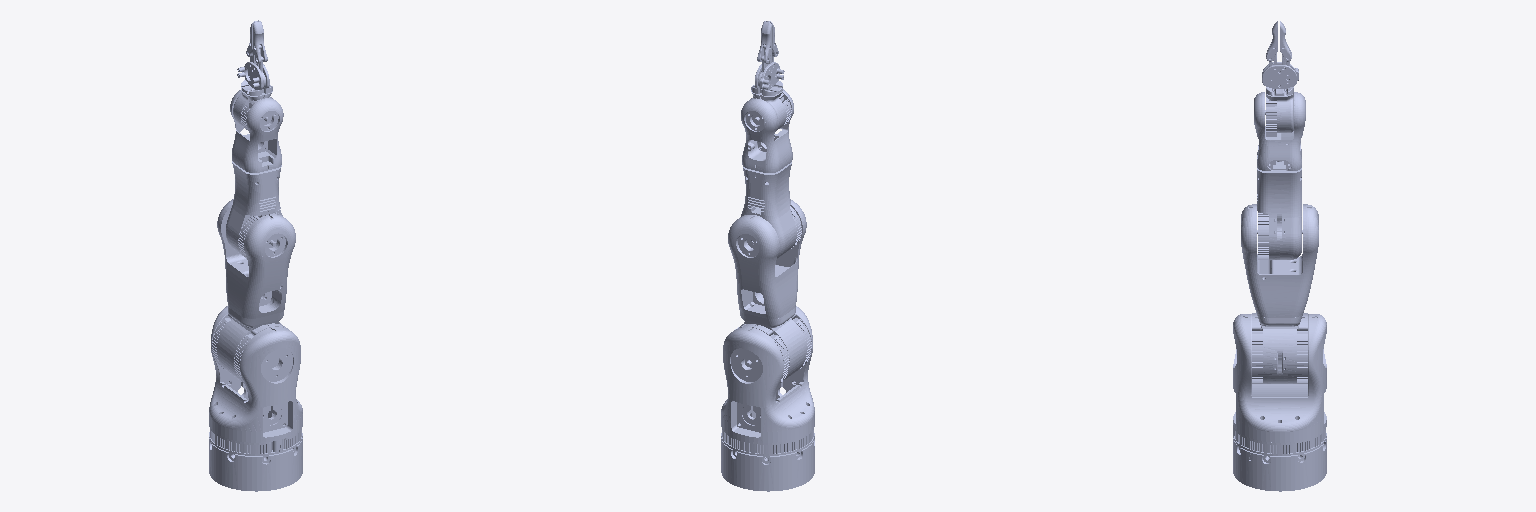
--- Facts derived from the render (not from the file) ---
The picture shows the robot from 3 angles, left to right: view 1: azimuth 30°, elevation 25°; view 2: azimuth 150°, elevation 25°; view 3: azimuth 270°, elevation 25°; orthographic projection.
Model rbx1_urdf with 15 links and 14 joints (8 revolute, 4 continuous, 2 fixed), rooted at world, posed all joints at 0.
Visible links, largest first — view 1: Link_1, Link_2, base_link, Link_4, Link_3, Link_Gripper, Link_5; view 2: Link_1, Link_2, base_link, Link_3, Link_4, Link_Gripper, Link_5; view 3: Link_2, Link_1, Link_3, base_link, Link_4, Link_5, Link_Gripper.
Link boxes in pixels (left/top/right/bottom): Link_1: left=209, top=306, right=302, bottom=455; Link_2: left=212, top=199, right=295, bottom=382; base_link: left=209, top=438, right=302, bottom=491; Link_4: left=230, top=90, right=283, bottom=172; Link_3: left=226, top=161, right=282, bottom=258; Link_Gripper: left=237, top=62, right=272, bottom=95; Link_5: left=233, top=90, right=272, bottom=130; Link_1: left=721, top=306, right=814, bottom=455; Link_2: left=728, top=200, right=811, bottom=382; base_link: left=721, top=438, right=814, bottom=491; Link_3: left=741, top=162, right=801, bottom=258; Link_4: left=741, top=90, right=793, bottom=172; Link_Gripper: left=751, top=62, right=784, bottom=95; Link_5: left=750, top=89, right=791, bottom=131; Link_2: left=1241, top=204, right=1318, bottom=383; Link_1: left=1233, top=314, right=1326, bottom=455; Link_3: left=1257, top=168, right=1302, bottom=259; base_link: left=1233, top=438, right=1326, bottom=491; Link_4: left=1254, top=92, right=1305, bottom=170; Link_5: left=1265, top=93, right=1293, bottom=132; Link_Gripper: left=1262, top=62, right=1298, bottom=95.
Size in the robot's own frame: 0.16 by 0.16 by 0.8502 metres.
Meshes: 14 distinct files referenced, 14 mesh visuals loaded (14 binary STL).

The robot description file, URDF, robot "rbx1_urdf":
<robot name="rbx1_urdf">

    <link name="world"/>
    <joint name="fixed" type="fixed">
        <parent link="world"/>
        <child link="base_link"/>
    </joint>

    <link name="base_link">
        <visual>
            <origin xyz="0 0 0" rpy="0 0 0" />
            <geometry>
                <mesh filename="package://rbx1_urdf/meshes/base_link.STL" />
            </geometry>
            <material name="">
                <color rgba="0.792156862745098 0.819607843137255 0.933333333333333 1" />
            </material>
        </visual>
        <collision>
            <origin xyz="0 0 0" rpy="0 0 0" />
            <geometry>
                <mesh filename="package://rbx1_urdf/meshes/base_link.STL" />
            </geometry>
        </collision>
        
<inertial>
            <mass value="0.1" />
            <inertia ixx="0.03" iyy="0.03" izz="0.03" ixy="0.0" ixz="0.0" iyz="0.0" />
        </inertial>

    </link>
    <link name="Link_1">
        
<inertial>
            <origin xyz="9.04997110390271E-05 -0.11835886489477 -1.03110880117219E-05" rpy="0 0 0" />
            <mass value="1.59870477698065" />
            <inertia ixx="0.00889558917774968" ixy="-9.83059909185543E-06" ixz="-1.11290572659371E-07" iyy="0.00628978480890219" iyz="2.53377512999986E-10" izz="0.0104429435232975" />
        </inertial>

        <visual>
            <origin xyz="0 0 0" rpy="0 0 0" />
            <geometry>
                <mesh filename="package://rbx1_urdf/meshes/Link_1.STL" />
            </geometry>
            <material name="">
                <color rgba="0.792156862745098 0.819607843137255 0.933333333333333 1" />
            </material>
        </visual>
        <collision>
            <origin xyz="0 0 0" rpy="0 0 0" />
            <geometry>
                <mesh filename="package://rbx1_urdf/meshes/Link_1.STL" />
            </geometry>
        </collision>
    </link>
    <joint name="Joint_1" type="revolute">
        <origin xyz="0 0 0.0309" rpy="-1.5708 -3.8551E-17 1.5708" />
        <parent link="base_link" />
        <child link="Link_1" />
        <axis xyz="0 -1 0" />
        <limit lower="-2.0944" upper="2.0944" effort="0" velocity="0.2" />
    </joint>
    <link name="Link_2">
        
<inertial>
            <origin xyz="-0.0752469214973449 -0.000500019087013304 0.00801565213983907" rpy="0 0 0" />
            <mass value="1.79157969898053" />
            <inertia ixx="0.00352142476542667" ixy="-6.44382134269422E-05" ixz="0.00133900684156435" iyy="0.015584705901927" iyz="6.30277961531298E-06" izz="0.0160835270899943" />
        </inertial>

        <visual>
            <origin xyz="0 0 0" rpy="0 0 0" />
            <geometry>
                <mesh filename="package://rbx1_urdf/meshes/Link_2.STL" />
            </geometry>
            <material name="">
                <color rgba="0.792156862745098 0.819607843137255 0.933333333333333 1" />
            </material>
        </visual>
        <collision>
            <origin xyz="0 0 0" rpy="0 0 0" />
            <geometry>
                <mesh filename="package://rbx1_urdf/meshes/Link_2.STL" />
            </geometry>
        </collision>
    </link>
    <joint name="Joint_2" type="revolute">
        <origin xyz="0 -0.20101 0" rpy="-3.7985E-15 -0.11192 1.5708" />
        <parent link="Link_1" />
        <child link="Link_2" />
        <axis xyz="0 -1 0" />
        <limit lower="-2.2" upper="2.2" effort="0" velocity="0.2" />
    </joint>
    <link name="Link_3">
        
<inertial>
            <origin xyz="-0.023523909117978 -0.000262425638498542 0.0293343651247101" rpy="0 0 0" />
            <mass value="0.657902225276796" />
            <inertia ixx="0.00143523552046151" ixy="5.67208849821963E-06" ixz="0.000616952504524279" iyy="0.00196412953468847" iyz="-7.12192573745459E-06" izz="0.00115362138792626" />
        </inertial>

        <visual>
            <origin xyz="0 0 0" rpy="0 0 0" />
            <geometry>
                <mesh filename="package://rbx1_urdf/meshes/Link_3.STL" />
            </geometry>
            <material name="">
                <color rgba="0.792156862745098 0.819607843137255 0.933333333333333 1" />
            </material>
        </visual>
        <collision>
            <origin xyz="0 0 0" rpy="0 0 0" />
            <geometry>
                <mesh filename="package://rbx1_urdf/meshes/Link_3.STL" />
            </geometry>
        </collision>
    </link>
    <joint name="Joint_3" type="revolute">
        <origin xyz="-0.21989 0 0.023345" rpy="-3.138 1.0089 0.0028034" />
        <parent link="Link_2" />
        <child link="Link_3" />
        <axis xyz="0 1 0" />
        <limit lower="-2.0944" upper="2.0944" effort="0" velocity="0.2" />
    </joint>
    <link name="Link_4">
        
<inertial>
            <origin xyz="-0.000480737416575283 -0.112984441555406 -0.000795364680788613" rpy="0 0 0" />
            <mass value="0.262000579378337" />
            <inertia ixx="0.000528509489468703" ixy="5.97380313581293E-06" ixz="1.89930990415442E-05" iyy="0.000284758336308065" iyz="8.46523202702657E-06" izz="0.0006021862445562" />
        </inertial>

        <visual>
            <origin xyz="0 0 0" rpy="0 0 0" />
            <geometry>
                <mesh filename="package://rbx1_urdf/meshes/Link_4.STL" />
            </geometry>
            <material name="">
                <color rgba="0.792156862745098 0.819607843137255 0.933333333333333 1" />
            </material>
        </visual>
        <collision>
            <origin xyz="0 0 0" rpy="0 0 0" />
            <geometry>
                <mesh filename="package://rbx1_urdf/meshes/Link_4.STL" />
            </geometry>
        </collision>
    </link>
    <joint name="Joint_4" type="revolute">
        <origin xyz="-0.043107 -0.00047146 0.054003" rpy="-0.91055 -0.14511 -1.3867" />
        <parent link="Link_3" />
        <child link="Link_4" />
        <axis xyz="0 -1 0" />
        <limit lower="-3.14159" upper="3.14159" effort="0" velocity="0.2" />
    </joint>
    <link name="Link_5">
        
<inertial>
            <origin xyz="0.00035860029323162 0.000462370431148607 0.0012074660441439" rpy="0 0 0" />
            <mass value="0.129980261281605" />
            <inertia ixx="6.97993885726989E-05" ixy="-5.95275086351691E-08" ixz="7.69507223431339E-07" iyy="8.40300167150342E-05" iyz="7.6448541105621E-07" izz="7.060027819932E-05" />
        </inertial>

        <visual>
            <origin xyz="0 0 0" rpy="0 0 0" />
            <geometry>
                <mesh filename="package://rbx1_urdf/meshes/Link_5.STL" />
            </geometry>
            <material name="">
                <color rgba="0.792156862745098 0.819607843137255 0.933333333333333 1" />
            </material>
        </visual>
        <collision>
            <origin xyz="0 0 0" rpy="0 0 0" />
            <geometry>
                <mesh filename="package://rbx1_urdf/meshes/Link_5.STL" />
            </geometry>
        </collision>
    </link>
    <joint name="Joint_5" type="revolute">
        <origin xyz="0 -0.157 0" rpy="1.5654 1.3362 3.1361" />
        <parent link="Link_4" />
        <child link="Link_5" />
        <axis xyz="0 1 0" />
        <limit lower="-2.00713" upper="2.00713" effort="0" velocity="0.2" />
    </joint>
    <link name="Link_6">
        
<inertial>
            <origin xyz="-3.64212066061853E-09 0.0199999999996755 4.35396996234516E-11" rpy="0 0 0" />
            <mass value="0.00201061929829747" />
            <inertia ixx="2.7612505029952E-07" ixy="1.31945770970693E-16" ixz="2.64697796016969E-23" iyy="1.60849543863798E-08" iyz="2.07579092561171E-19" izz="2.76125050299521E-07" />
        </inertial>

        <visual>
            <origin xyz="0 0 0" rpy="0 0 0" />
            <geometry>
                <mesh filename="package://rbx1_urdf/meshes/Link_6.STL" />
            </geometry>
            <material name="">
                <color rgba="0.792156862745098 0.819607843137255 0.933333333333333 1" />
            </material>
        </visual>
        <collision>
            <origin xyz="0 0 0" rpy="0 0 0" />
            <geometry>
                <mesh filename="package://rbx1_urdf/meshes/Link_6.STL" />
            </geometry>
        </collision>
    </link>
    <joint name="Joint_6" type="revolute">
        <origin xyz="0 0 -0.0095" rpy="-1.5708 -1.214E-15 1.5692" />
        <parent link="Link_5" />
        <child link="Link_6" />
        <axis xyz="0 1 0" />
        <limit lower="-3.14159" upper="3.14159" effort="0" velocity="0.2" />
    </joint>
    <link name="Link_Gripper">
        
<inertial>
            <origin xyz="0.0144880330223051 0.0207918931252273 0.0465067040652264" rpy="0 0 0" />
            <mass value="0.0321023588672998" />
            <inertia ixx="9.36130788952155E-06" ixy="-2.09719874613005E-08" ixz="7.20375545414964E-08" iyy="1.49516550450015E-05" iyz="-1.25070144104161E-07" izz="1.13986305198369E-05" />
        </inertial>

        <visual>
            <origin xyz="0 0 0" rpy="0 0 0" />
            <geometry>
                <mesh filename="package://rbx1_urdf/meshes/Link_Gripper.STL" />
            </geometry>
            <material name="">
                <color rgba="0.792156862745098 0.819607843137255 0.933333333333333 1" />
            </material>
        </visual>
        <collision>
            <origin xyz="0 0 0" rpy="0 0 0" />
            <geometry>
                <mesh filename="package://rbx1_urdf/meshes/Link_Gripper.STL" />
            </geometry>
        </collision>
    </link>
    <joint name="Joint_Grippper" type="fixed">
        <origin xyz="-0.0148522442394708 0.00482931437037815 0.0202321887443363" rpy="-1.5707962336435 0.000305207132015297 0.000305207160447832" />
        <parent link="Link_6" />
        <child link="Link_Gripper" />
        <axis xyz="0 0 0" />
    </joint>
    <link name="Link_Grip_Servo">
        
<inertial>
            <origin xyz="-0.000594334300579258 0.005983834364434 0.00631487709029044" rpy="0 0 0" />
            <mass value="0.00497129327522806" />
            <inertia ixx="9.20870244901648E-07" ixy="4.69154879147571E-11" ixz="1.26120295947165E-07" iyy="1.14024663144967E-06" iyz="-5.07455228682936E-10" izz="2.49488890628528E-07" />
        </inertial>

        <visual>
            <origin xyz="0 0 0" rpy="0 0 0" />
            <geometry>
                <mesh filename="package://rbx1_urdf/meshes/Link_Grip_Servo.STL" />
            </geometry>
            <material name="">
                <color rgba="0.792156862745098 0.819607843137255 0.933333333333333 1" />
            </material>
        </visual>
        <collision>
            <origin xyz="0 0 0" rpy="0 0 0" />
            <geometry>
                <mesh filename="package://rbx1_urdf/meshes/Link_Grip_Servo.STL" />
            </geometry>
        </collision>
    </link>
    <joint name="Joint_Grip_Servo" type="revolute">
        <origin xyz="0.0288442213189702 0.0147280634416684 0.0521488006817585" rpy="-9.78475925314596E-13 0.147046128957204 -4.52061409598828E-11" />
        <parent link="Link_Gripper" />
        <child link="Link_Grip_Servo" />
        <axis xyz="0 -1 0" />
        <limit lower="-1.57" upper="0" effort="0" velocity="1" />
    </joint>
    <link name="Link_Tip_Servo">
        
<inertial>
            <origin xyz="-0.00687374723770617 0.00580780363510508 0.0279590371014581" rpy="0 0 0" />
            <mass value="0.0104818096913555" />
            <inertia ixx="4.08347146641829E-06" ixy="-2.81245202430779E-10" ixz="6.13523728266486E-07" iyy="4.0136353887785E-06" iyz="1.4485165977E-09" izz="5.56766974307777E-07" />
        </inertial>

        <visual>
            <origin xyz="0 0 0" rpy="0 0 0" />
            <geometry>
                <mesh filename="package://rbx1_urdf/meshes/Link_Tip_Servo.STL" />
            </geometry>
            <material name="">
                <color rgba="0.792156862745098 0.819607843137255 0.933333333333333 1" />
            </material>
        </visual>
        <collision>
            <origin xyz="0 0 0" rpy="0 0 0" />
            <geometry>
                <mesh filename="package://rbx1_urdf/meshes/Link_Tip_Servo.STL" />
            </geometry>
        </collision>
    </link>
    <joint name="Joint_Tip_Servo" type="continuous">
        <origin xyz="-0.00610696516498432 -5.00001000001971E-05 0.03952347753678" rpy="2.80583764371945E-17 -0.147046129464605 -1.12233505748778E-16" />
        <parent link="Link_Grip_Servo" />
        <child link="Link_Tip_Servo" />
        <axis xyz="0 -1 0" />
        <mimic joint="Joint_Grip_Servo" multiplier="-1" offset="0" />
    </joint>
    <link name="Link_Grip_Servo_Arm">
        
<inertial>
            <origin xyz="-0.000103223626561066 0.00675801833847722 0.0187976491011368" rpy="0 0 0" />
            <mass value="0.00173989739580927" />
            <inertia ixx="3.43670095248073E-07" ixy="7.90270100637066E-12" ixz="1.86120661607953E-09" iyy="3.43299019904848E-07" iyz="-1.37302465326624E-09" izz="1.16944532672955E-08" />
        </inertial>

        <visual>
            <origin xyz="0 0 0" rpy="0 0 0" />
            <geometry>
                <mesh filename="package://rbx1_urdf/meshes/Link_Grip_Servo_Arm.STL" />
            </geometry>
            <material name="">
                <color rgba="0.792156862745098 0.819607843137255 0.933333333333333 1" />
            </material>
        </visual>
        <collision>
            <origin xyz="0 0 0" rpy="0 0 0" />
            <geometry>
                <mesh filename="package://rbx1_urdf/meshes/Link_Grip_Servo_Arm.STL" />
            </geometry>
        </collision>
    </link>
    <joint name="Joint_Grip_Servo_Arm" type="continuous">
        <origin xyz="0.021868 0.013928 0.072163" rpy="-9.6792E-13 -5.074E-10 -4.5063E-11" />
        <parent link="Link_Gripper" />
        <child link="Link_Grip_Servo_Arm" />
        <axis xyz="0 -1 0" />
        <mimic joint="Joint_Grip_Servo" multiplier="1" offset="0" />
    </joint>
    <link name="Link_Grip_Idle">
        
<inertial>
            <origin xyz="-0.00634757711609413 -0.00298384858865508 0.000395237409143823" rpy="0 0 0" />
            <mass value="0.00498016375528581" />
            <inertia ixx="2.25141752744145E-07" ixy="-5.10672634206311E-10" ixz="-1.89202637077747E-08" iyy="1.1358426994906E-06" iyz="3.16054597956422E-11" izz="9.40852361525839E-07" />
        </inertial>

        <visual>
            <origin xyz="0 0 0" rpy="0 0 0" />
            <geometry>
                <mesh filename="package://rbx1_urdf/meshes/Link_Grip_Idle.STL" />
            </geometry>
            <material name="">
                <color rgba="0.792156862745098 0.819607843137255 0.933333333333333 1" />
            </material>
        </visual>
        <collision>
            <origin xyz="0 0 0" rpy="0 0 0" />
            <geometry>
                <mesh filename="package://rbx1_urdf/meshes/Link_Grip_Idle.STL" />
            </geometry>
        </collision>
    </link>
    <joint name="Joint_Grip_Idle" type="revolute">
        <origin xyz="0.00086097 0.017728 0.052166" rpy="3.1416 1.518 -6.3368E-11" />
        <parent link="Link_Gripper" />
        <child link="Link_Grip_Idle" />
        <axis xyz="0 1 0" />
        <limit lower="0" upper="1.57" effort="0" velocity="0" />
        <mimic joint="Joint_Grip_Servo" multiplier="-1" offset="0" />
    </joint>
    <link name="Link_Tip_Idle">
        
<inertial>
            <origin xyz="0.00695662732466618 0.00580776868603466 0.0279346725972899" rpy="0 0 0" />
            <mass value="0.0104817582171299" />
            <inertia ixx="4.07981789913299E-06" ixy="2.73246757803913E-10" ixz="-6.23772844990472E-07" iyy="4.01358546139554E-06" iyz="1.42084640005264E-09" izz="5.6036556496829E-07" />
        </inertial>

        <visual>
            <origin xyz="0 0 0" rpy="0 0 0" />
            <geometry>
                <mesh filename="package://rbx1_urdf/meshes/Link_Tip_Idle.STL" />
            </geometry>
            <material name="">
                <color rgba="0.792156862745098 0.819607843137255 0.933333333333333 1" />
            </material>
        </visual>
        <collision>
            <origin xyz="0 0 0" rpy="0 0 0" />
            <geometry>
                <mesh filename="package://rbx1_urdf/meshes/Link_Tip_Idle.STL" />
            </geometry>
        </collision>
    </link>
    <joint name="Joint_Tip_Idle" type="continuous">
        <origin xyz="-0.039996 0.00305 0" rpy="-3.1416 1.518 5.2565E-15" />
        <parent link="Link_Grip_Idle" />
        <child link="Link_Tip_Idle" />
        <axis xyz="0 -1 0" />
        <mimic joint="Joint_Grip_Idle" multiplier="-1" offset="0" />
    </joint>
    <link name="Link_Grip_Idle_Arm">
        
<inertial>
            <origin xyz="-0.00099272734528677 0.00675801833847731 0.0187717010221374" rpy="0 0 0" />
            <mass value="0.00173989739580927" />
            <inertia ixx="3.42750579739968E-07" ixy="7.28737451245267E-11" ixz="1.75463766178195E-08" iyy="3.43299019904854E-07" iyz="-1.37111216478893E-09" izz="1.2613968775406E-08" />
        </inertial>

        <visual>
            <origin xyz="0 0 0" rpy="0 0 0" />
            <geometry>
                <mesh filename="package://rbx1_urdf/meshes/Link_Grip_Idle_Arm.STL" />
            </geometry>
            <material name="">
                <color rgba="0.792156862745098 0.819607843137255 0.933333333333333 1" />
            </material>
        </visual>
        <collision>
            <origin xyz="0 0 0" rpy="0 0 0" />
            <geometry>
                <mesh filename="package://rbx1_urdf/meshes/Link_Grip_Idle_Arm.STL" />
            </geometry>
        </collision>
    </link>
    <joint name="Joint_Grip_Idle_Arm" type="continuous">
        <origin xyz="0.0078729 0.013928 0.072162" rpy="-9.6792E-13 -5.074E-10 -4.5063E-11" />
        <parent link="Link_Gripper" />
        <child link="Link_Grip_Idle_Arm" />
        <axis xyz="0 -1 0" />
        <mimic joint="Joint_Grip_Idle" multiplier="1" offset="0" />
    </joint>
    
<transmission name="trans_Joint_1">
        <type>transmission_interface/SimpleTransmission</type>
        <joint name="Joint_1">
            <hardwareInterface>hardware_interface/PositionJointInterface</hardwareInterface>
        </joint>
        <actuator name="Joint_1_motor">
            <hardwareInterface>hardware_interface/PositionJointInterface</hardwareInterface>
            <mechanicalReduction>1</mechanicalReduction>
        </actuator>
    </transmission>
    <transmission name="trans_Joint_2">
        <type>transmission_interface/SimpleTransmission</type>
        <joint name="Joint_2">
            <hardwareInterface>hardware_interface/PositionJointInterface</hardwareInterface>
        </joint>
        <actuator name="Joint_2_motor">
            <hardwareInterface>hardware_interface/PositionJointInterface</hardwareInterface>
            <mechanicalReduction>1</mechanicalReduction>
        </actuator>
    </transmission>
    <transmission name="trans_Joint_3">
        <type>transmission_interface/SimpleTransmission</type>
        <joint name="Joint_3">
            <hardwareInterface>hardware_interface/PositionJointInterface</hardwareInterface>
        </joint>
        <actuator name="Joint_3_motor">
            <hardwareInterface>hardware_interface/PositionJointInterface</hardwareInterface>
            <mechanicalReduction>1</mechanicalReduction>
        </actuator>
    </transmission>
    <transmission name="trans_Joint_4">
        <type>transmission_interface/SimpleTransmission</type>
        <joint name="Joint_4">
            <hardwareInterface>hardware_interface/PositionJointInterface</hardwareInterface>
        </joint>
        <actuator name="Joint_4_motor">
            <hardwareInterface>hardware_interface/PositionJointInterface</hardwareInterface>
            <mechanicalReduction>1</mechanicalReduction>
        </actuator>
    </transmission>
    <transmission name="trans_Joint_5">
        <type>transmission_interface/SimpleTransmission</type>
        <joint name="Joint_5">
            <hardwareInterface>hardware_interface/PositionJointInterface</hardwareInterface>
        </joint>
        <actuator name="Joint_5_motor">
            <hardwareInterface>hardware_interface/PositionJointInterface</hardwareInterface>
            <mechanicalReduction>1</mechanicalReduction>
        </actuator>
    </transmission>
    <transmission name="trans_Joint_6">
        <type>transmission_interface/SimpleTransmission</type>
        <joint name="Joint_6">
            <hardwareInterface>hardware_interface/PositionJointInterface</hardwareInterface>
        </joint>
        <actuator name="Joint_6_motor">
            <hardwareInterface>hardware_interface/PositionJointInterface</hardwareInterface>
            <mechanicalReduction>1</mechanicalReduction>
        </actuator>
    </transmission>
    <transmission name="trans_Joint_Grip_Servo">
        <type>transmission_interface/SimpleTransmission</type>
        <joint name="Joint_Grip_Servo">
            <hardwareInterface>hardware_interface/EffortJointInterface</hardwareInterface>
        </joint>
        <actuator name="Joint_Grip_Servo_motor">
            <hardwareInterface>hardware_interface/EffortJointInterface</hardwareInterface>
            <mechanicalReduction>1</mechanicalReduction>
        </actuator>
    </transmission>
    <transmission name="trans_Joint_Tip_Servo">
        <type>transmission_interface/SimpleTransmission</type>
        <joint name="Joint_Tip_Servo">
            <hardwareInterface>hardware_interface/EffortJointInterface</hardwareInterface>
        </joint>
        <actuator name="Joint_Tip_Servo_motor">
            <hardwareInterface>hardware_interface/EffortJointInterface</hardwareInterface>
            <mechanicalReduction>1</mechanicalReduction>
        </actuator>
    </transmission>
    <transmission name="trans_Joint_Grip_Servo_Arm">
        <type>transmission_interface/SimpleTransmission</type>
        <joint name="Joint_Grip_Servo_Arm">
            <hardwareInterface>hardware_interface/EffortJointInterface</hardwareInterface>
        </joint>
        <actuator name="Joint_Grip_Servo_Arm_motor">
            <hardwareInterface>hardware_interface/EffortJointInterface</hardwareInterface>
            <mechanicalReduction>1</mechanicalReduction>
        </actuator>
    </transmission>
    <transmission name="trans_Joint_Grip_Idle">
        <type>transmission_interface/SimpleTransmission</type>
        <joint name="Joint_Grip_Idle">
            <hardwareInterface>hardware_interface/EffortJointInterface</hardwareInterface>
        </joint>
        <actuator name="Joint_Grip_Idle_motor">
            <hardwareInterface>hardware_interface/EffortJointInterface</hardwareInterface>
            <mechanicalReduction>1</mechanicalReduction>
        </actuator>
    </transmission>
    <transmission name="trans_Joint_Tip_Idle">
        <type>transmission_interface/SimpleTransmission</type>
        <joint name="Joint_Tip_Idle">
            <hardwareInterface>hardware_interface/EffortJointInterface</hardwareInterface>
        </joint>
        <actuator name="Joint_Tip_Idle_motor">
            <hardwareInterface>hardware_interface/EffortJointInterface</hardwareInterface>
            <mechanicalReduction>1</mechanicalReduction>
        </actuator>
    </transmission>
    <transmission name="trans_Joint_Grip_Idle_Arm">
        <type>transmission_interface/SimpleTransmission</type>
        <joint name="Joint_Grip_Idle_Arm">
            <hardwareInterface>hardware_interface/EffortJointInterface</hardwareInterface>
        </joint>
        <actuator name="Joint_Grip_Idle_Arm_motor">
            <hardwareInterface>hardware_interface/EffortJointInterface</hardwareInterface>
            <mechanicalReduction>1</mechanicalReduction>
        </actuator>
    </transmission>
    <gazebo>
        <plugin name="gazebo_ros_control" filename="libgazebo_ros_control.so">
            <robotNamespace>/</robotNamespace>
        </plugin>
    </gazebo>
</robot>
